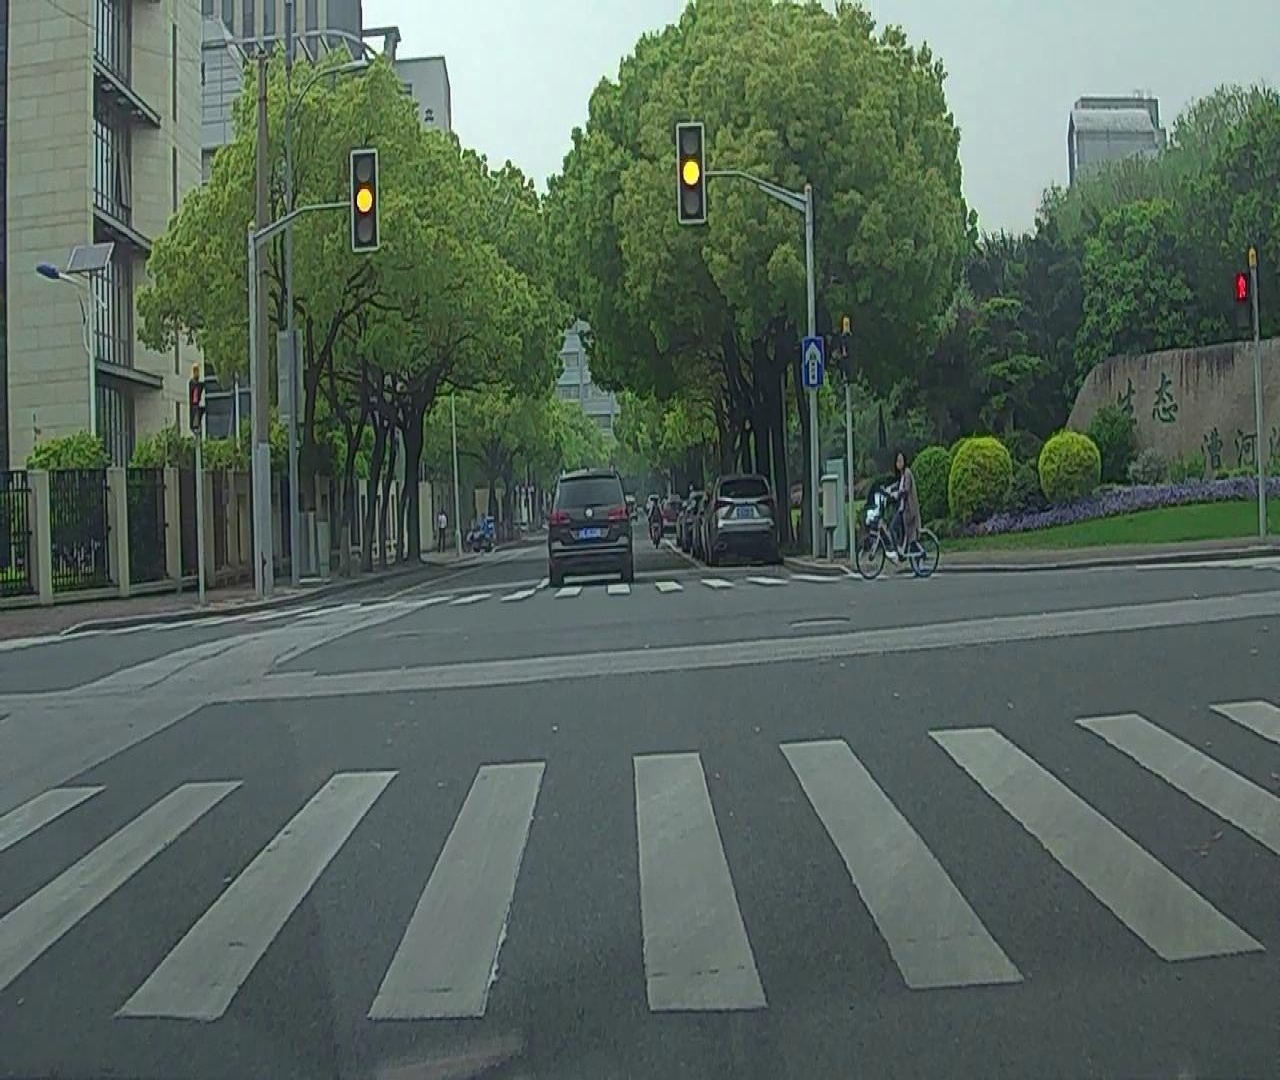yellow: (352, 153, 378, 247), (680, 126, 704, 219)
